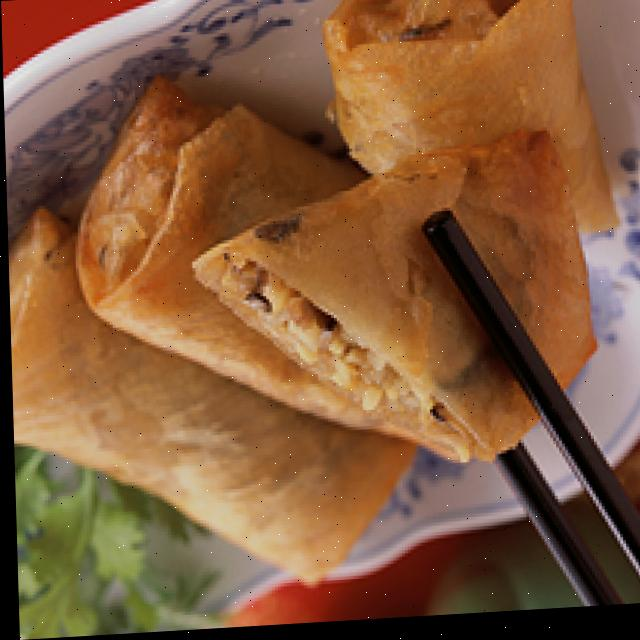鸡蛋料理: (0, 0, 640, 614)
